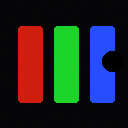2 circle: (102, 51, 122, 71)
